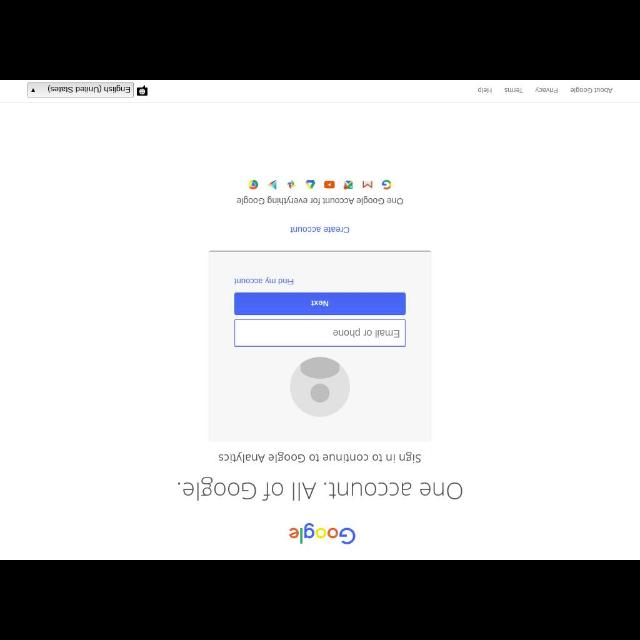icon: (290, 356, 350, 420), (136, 84, 148, 96), (31, 88, 35, 92)
image: (290, 522, 358, 546), (323, 180, 335, 190), (266, 180, 278, 190), (381, 179, 392, 189), (342, 180, 353, 190), (305, 179, 315, 189), (248, 180, 258, 190), (361, 181, 373, 189), (287, 180, 295, 190)
input: (235, 318, 407, 348)
multitab: (476, 86, 614, 94)
panel: (205, 248, 432, 444)
spinner: (28, 82, 134, 98)
text: (175, 474, 463, 502), (216, 450, 422, 466), (237, 194, 403, 204), (331, 327, 402, 339), (48, 85, 130, 93), (233, 277, 294, 287), (289, 224, 349, 234), (570, 86, 612, 94), (310, 298, 330, 310), (535, 86, 557, 94), (504, 87, 524, 93), (476, 87, 492, 93)
textbutton: (232, 292, 406, 316)
toolbar: (1, 82, 640, 102)
